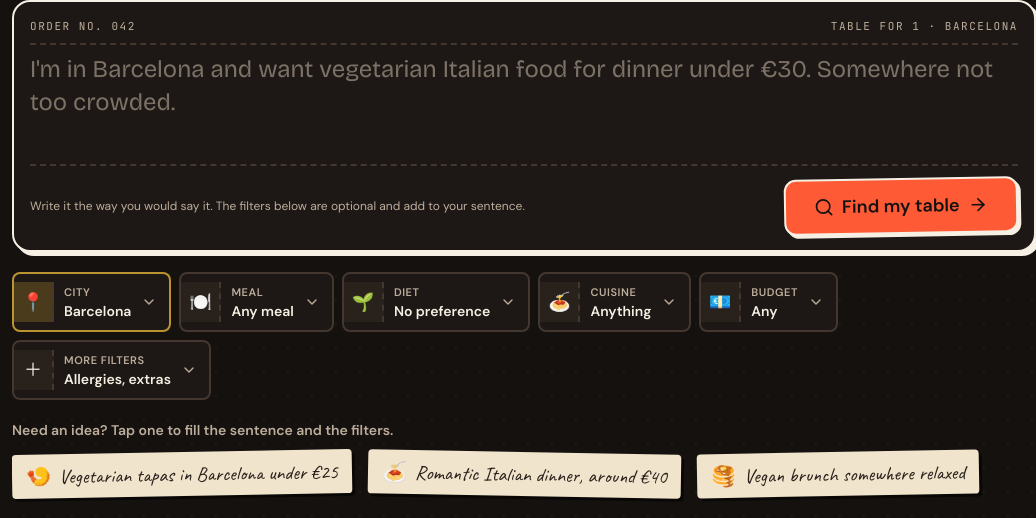
Test: SearchComposer › fills both the sentence and the filters from an example
What coordinates should you click on to do the following:
click the button "🥞 Vegan brunch somewhere relaxed"
I would click on:
 (838, 474)
Its box is 696,450 -> 979,498.
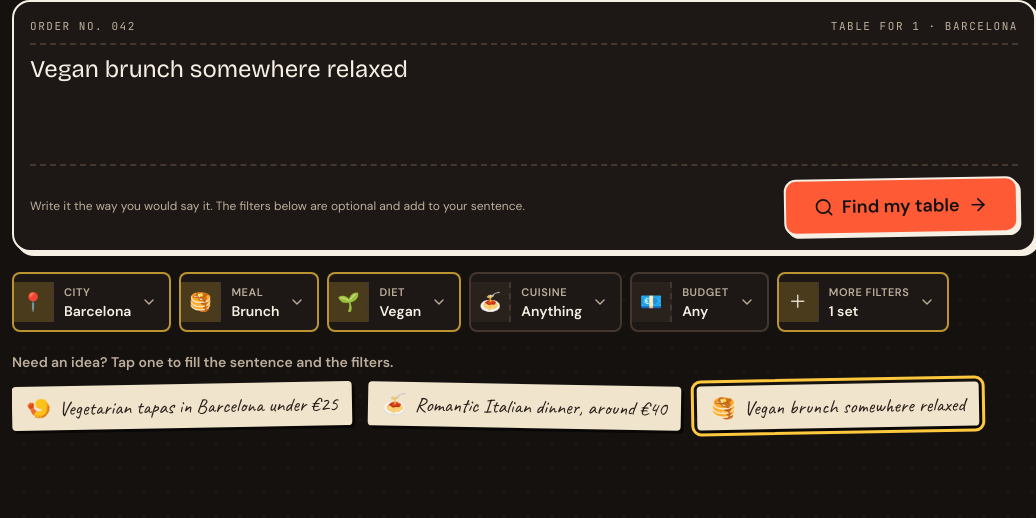
Result: the text box named "What are you hungry for?" holds "Vegan brunch somewhere relaxed" at 30,53 -> 1018,152
Result: the button "🥞 Meal Brunch" is shown at 179,272 -> 320,332
Result: the button "🌱 Diet Vegan" is shown at 328,272 -> 461,332
